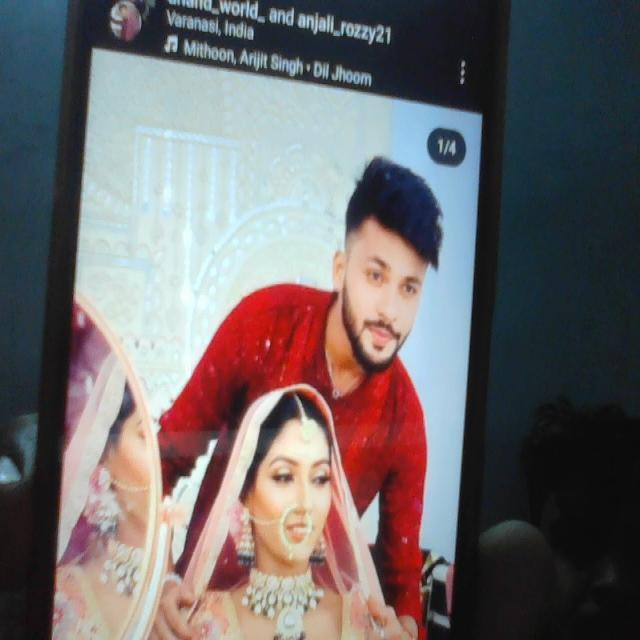fake: (334, 172, 444, 380)
